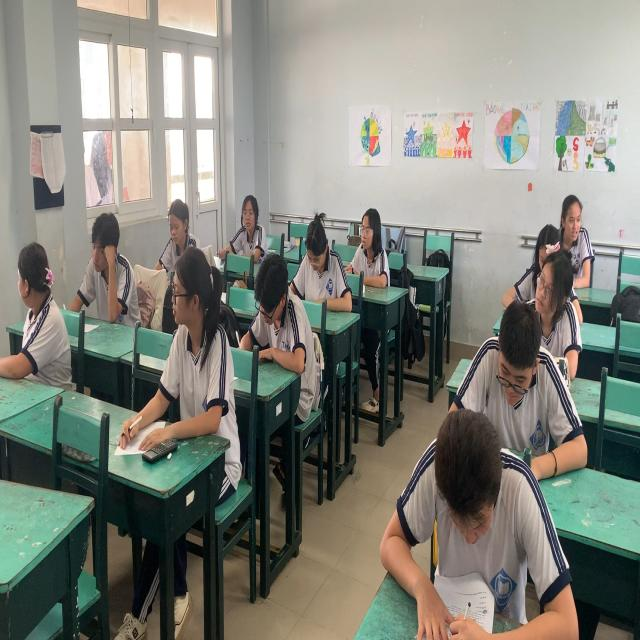cheating: (155, 235, 226, 401), (7, 233, 65, 375)
not_cheating: (420, 408, 551, 590), (484, 302, 564, 435), (249, 262, 316, 397), (75, 198, 134, 325), (298, 210, 359, 324), (152, 176, 200, 276), (523, 238, 570, 337), (549, 162, 595, 252), (349, 194, 393, 286), (228, 172, 261, 270)
